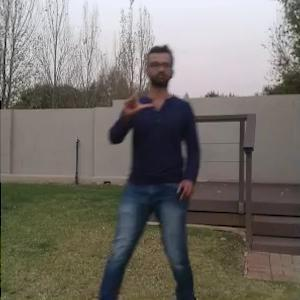land_hand: (121, 79, 154, 116)
